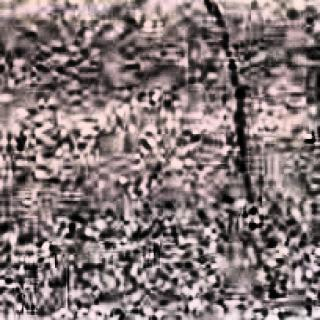crack: (200, 0, 279, 320)
